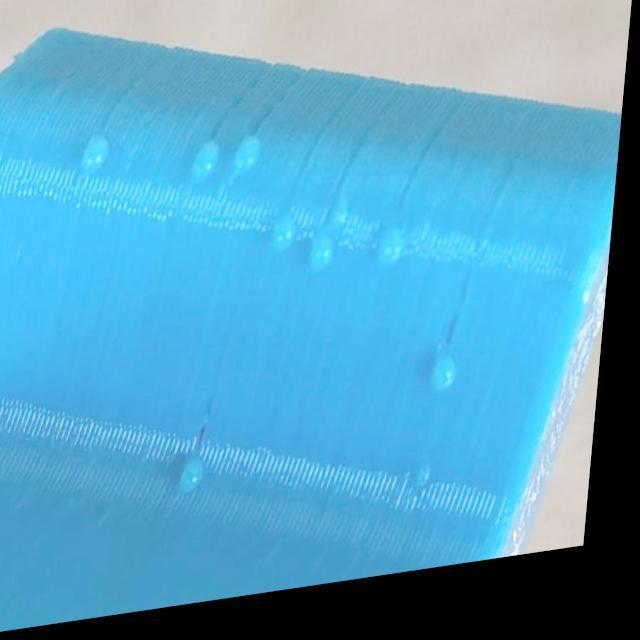zits: (188, 139, 234, 197), (82, 130, 119, 184), (234, 140, 265, 192), (377, 238, 412, 284), (436, 371, 471, 417), (268, 224, 308, 264), (314, 240, 342, 289), (184, 463, 218, 502), (419, 476, 448, 506), (332, 207, 356, 236)
